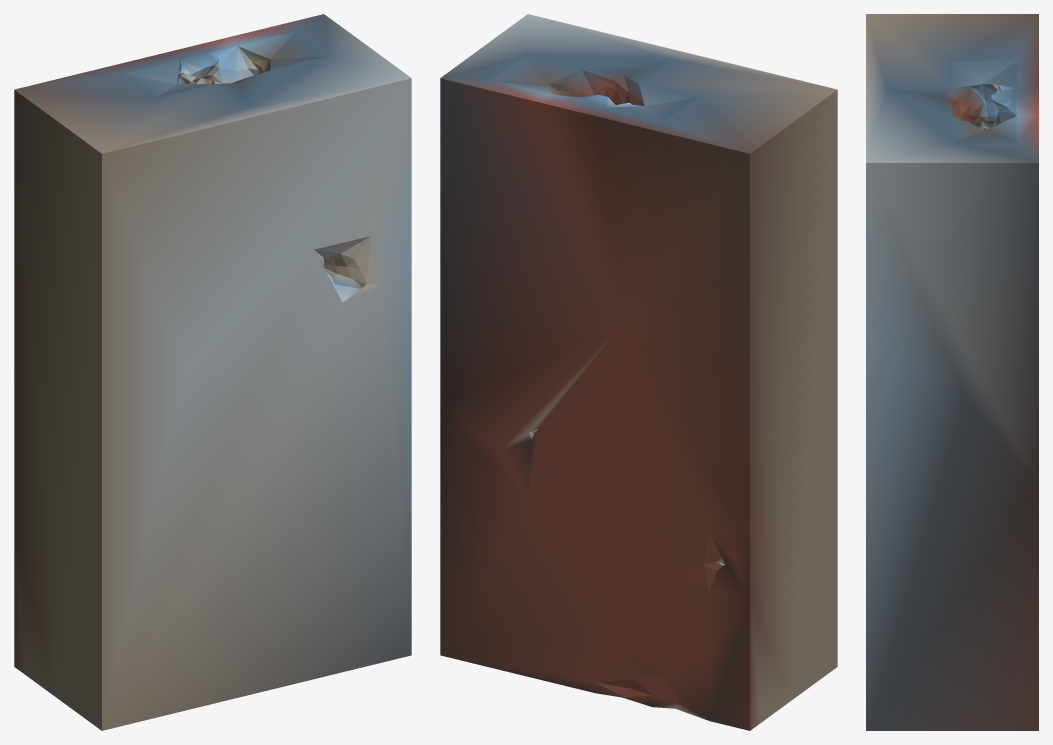
The picture shows the model from 3 angles, left to right: view 1: azimuth 30°, elevation 25°; view 2: azimuth 150°, elevation 25°; view 3: azimuth 270°, elevation 25°; orthographic projection.
Parts seen in each view (by area): view 1: node_0; view 2: node_0; view 3: node_0.
Part boxes in pixels (x1,y1,x2,y2): node_0: (14,14,411,730); node_0: (440,14,837,730); node_0: (866,14,1038,730).
Size of the model in its own units: 15.69 by 28.02 by 7.7.
